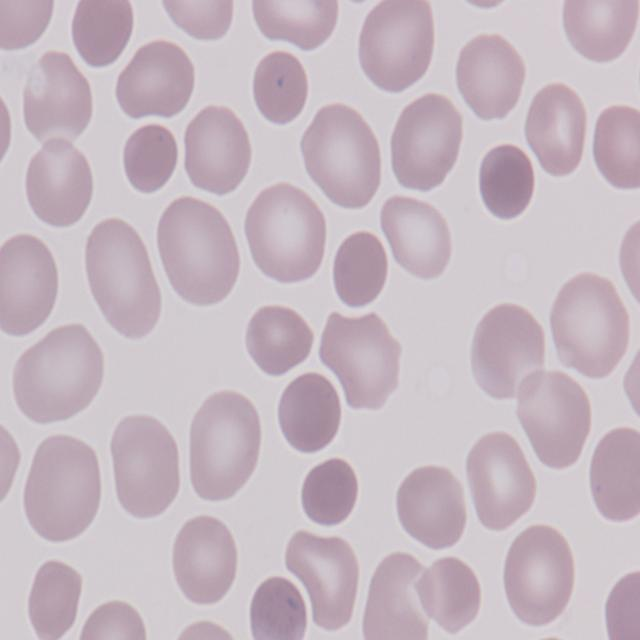RBC: (10, 321, 109, 428), (150, 195, 242, 308), (79, 213, 162, 337), (181, 385, 263, 508), (20, 430, 106, 545), (546, 270, 634, 380), (298, 100, 384, 206), (244, 184, 330, 288), (516, 366, 596, 476), (105, 410, 183, 521), (499, 524, 578, 632), (384, 90, 466, 193), (461, 428, 540, 534), (324, 311, 404, 414), (468, 300, 548, 400), (357, 0, 439, 96), (286, 530, 362, 633), (18, 135, 94, 233), (113, 40, 198, 126), (250, 553, 332, 640), (451, 31, 527, 124), (170, 511, 242, 608), (180, 102, 252, 198), (391, 462, 468, 550), (523, 84, 593, 178), (382, 196, 454, 284), (0, 230, 59, 336), (359, 554, 431, 640), (416, 552, 486, 638), (241, 304, 315, 382), (586, 425, 640, 526), (561, 0, 640, 65), (24, 558, 86, 640), (249, 0, 341, 51), (70, 0, 135, 69), (590, 99, 640, 188), (154, 0, 236, 40), (1, 0, 60, 53), (78, 598, 149, 640), (614, 214, 640, 318), (602, 570, 640, 640), (0, 412, 24, 514), (0, 68, 18, 192), (162, 616, 250, 640), (622, 332, 640, 434)
Spherocyte: (274, 367, 344, 458), (330, 225, 390, 312), (476, 142, 538, 226), (249, 46, 310, 129), (294, 456, 359, 533), (120, 119, 182, 199), (243, 572, 309, 640)
